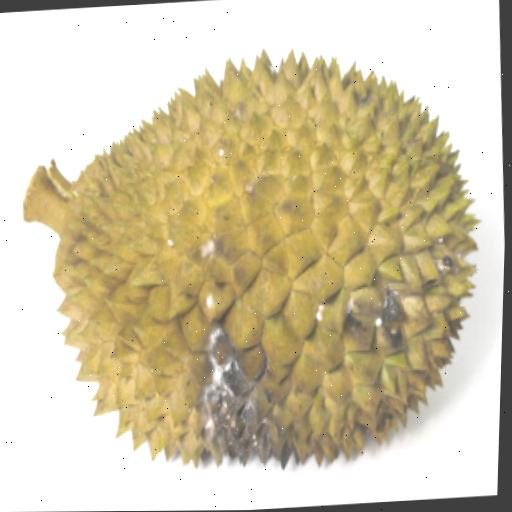mold: (0, 17, 509, 501)
